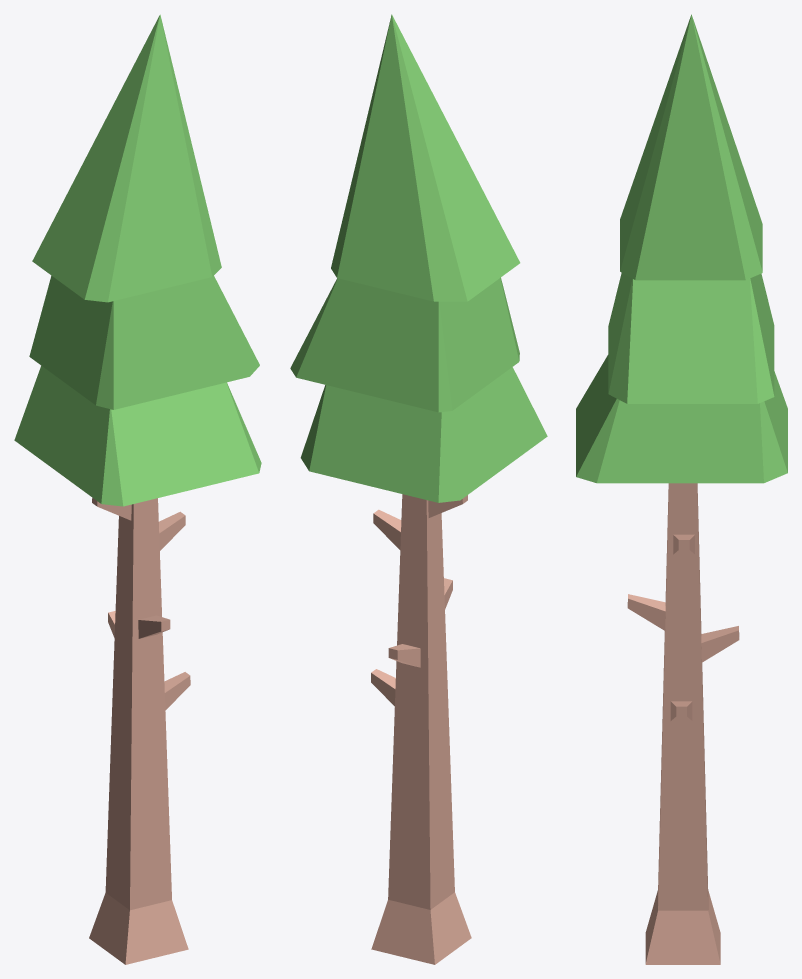
File: tree_pineTallB_detailed.glb
3 renders of one model, left to right at view 1: azimuth 30°, elevation 25°; view 2: azimuth 150°, elevation 25°; view 3: azimuth 270°, elevation 25°, orthographic. The views are drawn at different scales.
Visible parts, largest first — view 1: tree_pineTallB_detailed; view 2: tree_pineTallB_detailed; view 3: tree_pineTallB_detailed.
Boxes of the visible parts, x1,y1,x2,y2 form: tree_pineTallB_detailed: (14, 14, 261, 964); tree_pineTallB_detailed: (290, 14, 547, 964); tree_pineTallB_detailed: (576, 14, 787, 964).
Size of the model in its own units: 0.3863 by 1.93 by 0.392.
